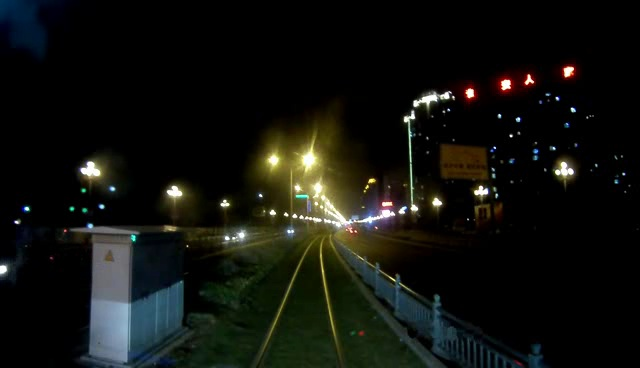car: (223, 228, 246, 243)
